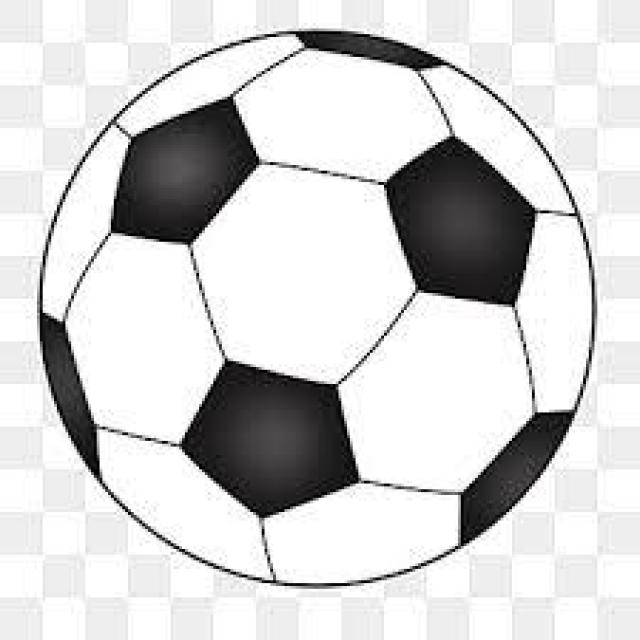Soccer Ball: (40, 17, 597, 586)
